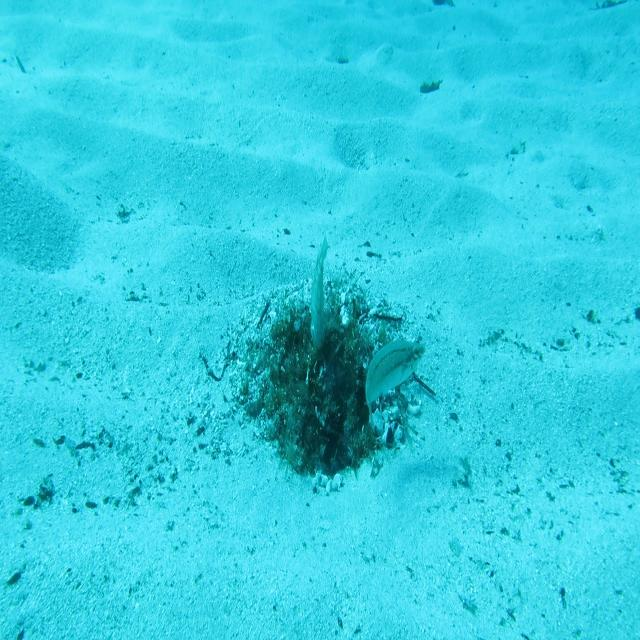NIP_CORE: (308, 230, 331, 354)
core_nest: (298, 326, 344, 385)
female: (363, 335, 428, 438)
nest: (219, 252, 434, 506)
vegetation: (418, 78, 444, 95)
